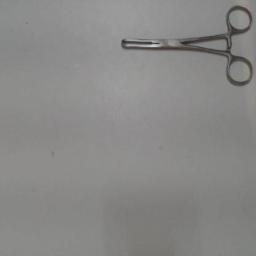Allis Tissue Forceps: (116, 3, 256, 93)
